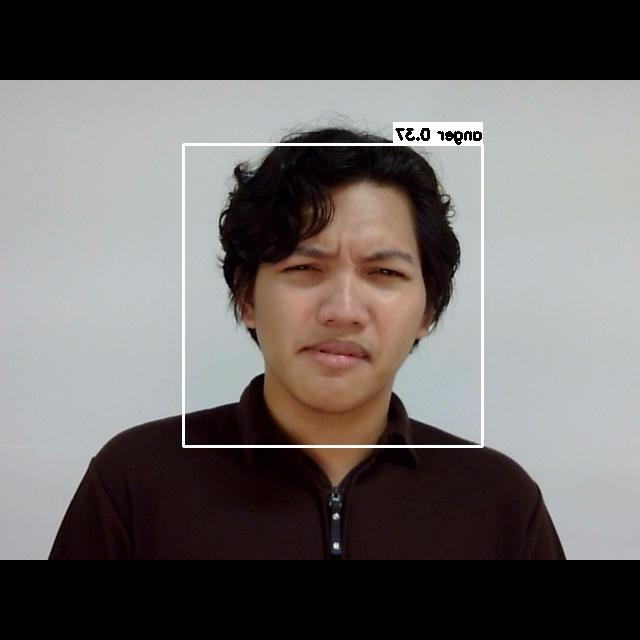Disgust: (260, 222, 432, 398)
